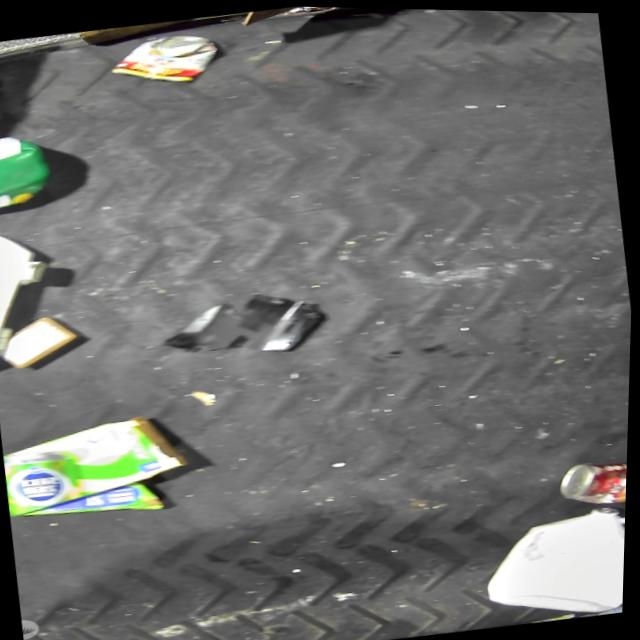can: (105, 28, 224, 93), (556, 450, 630, 508)
milk_jug: (478, 496, 629, 625)
non_white_jug: (0, 132, 56, 217)
